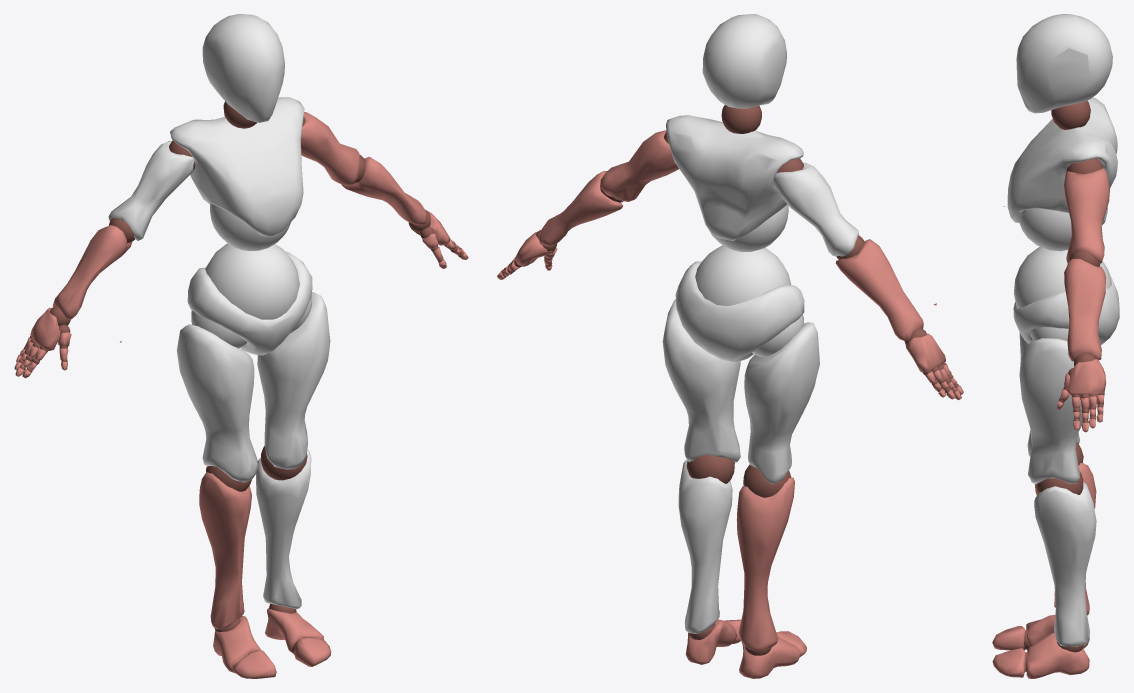
Rendered from xbot_for_mixamo.fbx.
3 views of the same model, side by side, from view 1: azimuth 30°, elevation 25°; view 2: azimuth 150°, elevation 25°; view 3: azimuth 270°, elevation 25° (orthographic). The views are drawn at different scales.
Visible parts, largest first — view 1: Modeltop1, Beta_Surface.090, Beta_Surface.089, Beta_Surface.008, Beta_Surface.007, Beta_Surface.088, Beta_Surface.013, Beta_Surface.048, Beta_Surface.049, Beta_Surface.014, Beta_Surface.015, Beta_Surface.093 (+6 smaller); view 2: Beta_Surface.090, Modeltop1, Beta_Surface.089, Beta_Surface.008, Beta_Surface.007, Beta_Surface.013, Beta_Surface.088, Beta_Surface.048, Beta_Surface.049, Beta_Surface.014, Beta_Surface.015, Beta_Surface.093 (+7 smaller); view 3: Beta_Surface.007, Modeltop1, Beta_Surface.013, Beta_Surface.008, Beta_Surface.090, Beta_Surface.015, Beta_Surface.014, Beta_Surface.009, Beta_Surface.093, Beta_Surface.016, Beta_Surface.096, Beta_Surface.011 (+8 smaller).
Part boxes in pixels (x1,y1,x2,y2): Modeltop1: (170,97,304,236); Beta_Surface.090: (187,243,312,355); Beta_Surface.089: (176,324,258,482); Beta_Surface.008: (257,292,330,469); Beta_Surface.007: (202,14,284,122); Beta_Surface.088: (199,472,251,629); Beta_Surface.013: (256,449,311,608); Beta_Surface.048: (108,141,194,240); Beta_Surface.049: (52,225,132,319); Beta_Surface.014: (301,112,359,185); Beta_Surface.015: (341,156,426,225); Beta_Surface.093: (210,203,290,250); Beta_Surface.090: (675,245,804,361); Modeltop1: (666,115,803,240); Beta_Surface.089: (744,322,819,484); Beta_Surface.008: (662,299,740,462); Beta_Surface.007: (702,14,786,108); Beta_Surface.013: (678,459,732,633); Beta_Surface.088: (736,477,794,650); Beta_Surface.048: (773,162,858,256); Beta_Surface.049: (835,239,923,341); Beta_Surface.014: (600,130,678,201); Beta_Surface.015: (539,171,622,246); Beta_Surface.093: (709,204,788,251); Beta_Surface.007: (1016,14,1112,113); Modeltop1: (1007,97,1117,224); Beta_Surface.013: (1034,482,1096,646); Beta_Surface.008: (1019,338,1089,484); Beta_Surface.090: (1013,246,1119,344); Beta_Surface.015: (1064,258,1106,361); Beta_Surface.014: (1064,168,1109,263); Beta_Surface.009: (1026,632,1089,678); Beta_Surface.093: (1019,208,1071,251); Beta_Surface.016: (1067,359,1106,396); Beta_Surface.096: (1051,100,1090,129); Beta_Surface.011: (992,648,1025,675).
Size of the model in its own units: 131 by 176 by 32.01.
